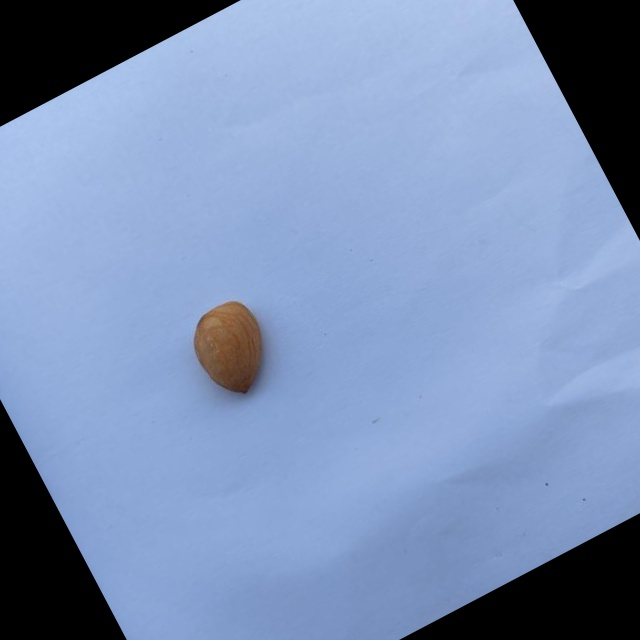grade2: (176, 287, 292, 410)
